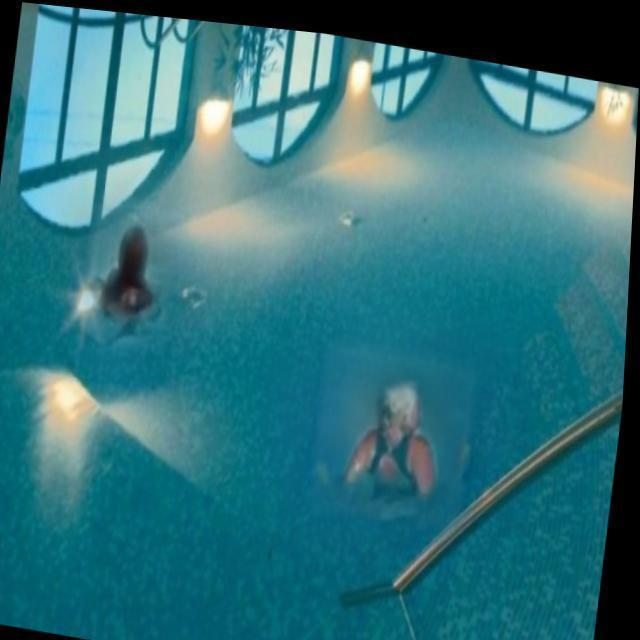swimming: (338, 378, 458, 509), (77, 227, 155, 346)
